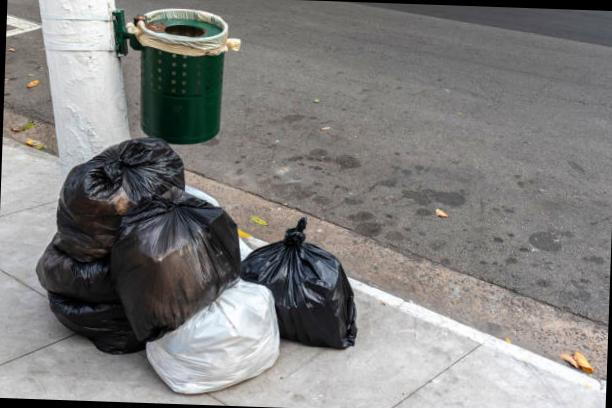trash: (46, 108, 374, 386), (216, 193, 364, 355), (36, 119, 185, 257), (14, 225, 166, 358), (112, 190, 240, 338), (140, 270, 280, 389)
